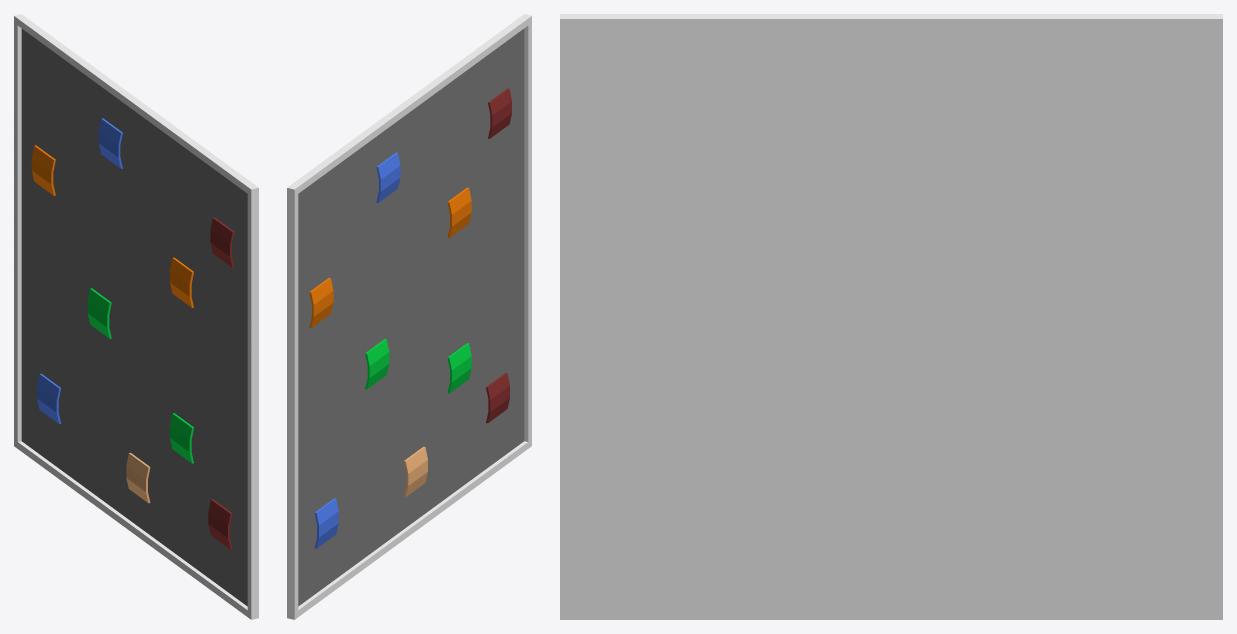
The model's file is Paper Board_2.fbx.
3 renders of one model, left to right at view 1: azimuth 30°, elevation 25°; view 2: azimuth 150°, elevation 25°; view 3: azimuth 270°, elevation 25°, orthographic. The views are drawn at different scales.
Visible parts, largest first — view 1: Paper Board_2; view 2: Paper Board_2; view 3: Paper Board_2.
Part boxes in pixels (<box>): Paper Board_2: <box>14,14,258,619</box>; Paper Board_2: <box>287,14,531,619</box>; Paper Board_2: <box>560,14,1222,619</box>.
Size of the model in its own units: 0.0152 by 0.7543 by 0.7543.
